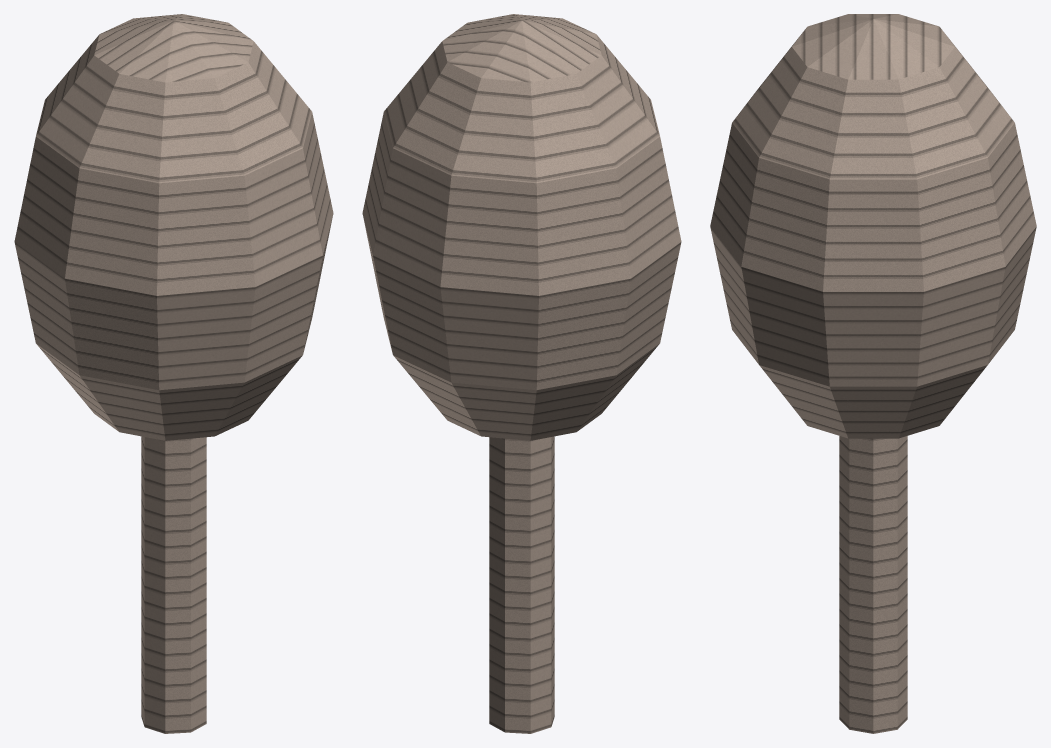
The model's file is tree_storm_damaged.glb.
The picture shows the model from 3 angles, left to right: view 1: azimuth 30°, elevation 25°; view 2: azimuth 150°, elevation 25°; view 3: azimuth 270°, elevation 25°; orthographic projection.
Parts seen in each view (by area): view 1: tree_storm_damaged-col; view 2: tree_storm_damaged-col; view 3: tree_storm_damaged-col.
Boxes of the visible parts, x1,y1,x2,y2 form: tree_storm_damaged-col: (14,14,333,733); tree_storm_damaged-col: (362,14,681,733); tree_storm_damaged-col: (710,14,1036,733).
Bounding box in the file's own units: 2.28 × 5.68 × 2.4.
Materials: 2 (2 with a texture image).
